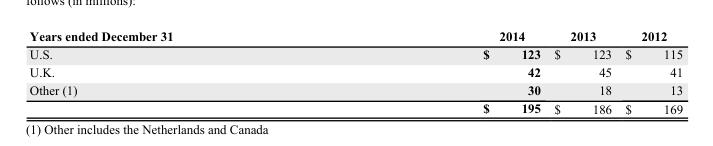table: (28, 28, 682, 115)
table column: (28, 28, 327, 115), (327, 28, 546, 115), (546, 28, 617, 115), (617, 28, 682, 115)
table column header: (28, 28, 682, 44)
table row: (28, 80, 682, 99), (28, 44, 682, 62), (28, 62, 682, 80), (28, 28, 682, 44), (28, 99, 682, 115)
